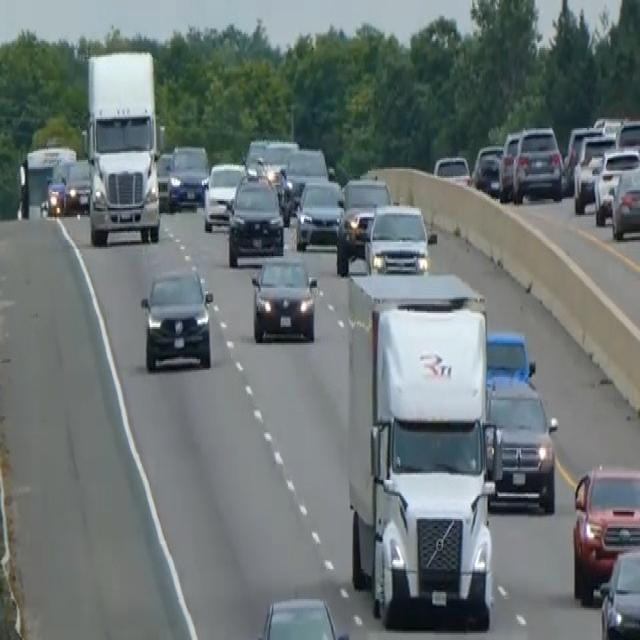car: (485, 373, 558, 514), (571, 460, 639, 602), (139, 265, 214, 371), (250, 253, 318, 343), (335, 174, 391, 272), (226, 171, 284, 265), (365, 199, 434, 276), (254, 592, 350, 638), (512, 122, 563, 202), (598, 544, 639, 638), (294, 176, 344, 251), (593, 146, 639, 226), (572, 132, 616, 214), (280, 144, 329, 213), (202, 158, 245, 231), (485, 327, 535, 388), (166, 142, 208, 210), (562, 123, 602, 192), (609, 164, 639, 240), (43, 156, 75, 217), (497, 128, 522, 201), (472, 142, 503, 196), (64, 156, 91, 214), (433, 153, 471, 187), (615, 116, 639, 167), (155, 150, 173, 204)
lorry: (343, 269, 503, 631), (84, 48, 162, 247)
